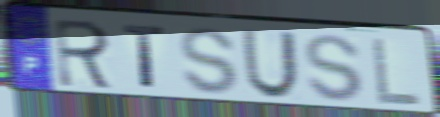L: (369, 35, 423, 108)
R: (52, 16, 117, 92)
S: (177, 25, 241, 97), (302, 32, 366, 104)
T: (120, 22, 168, 92)
U: (240, 28, 300, 101)
